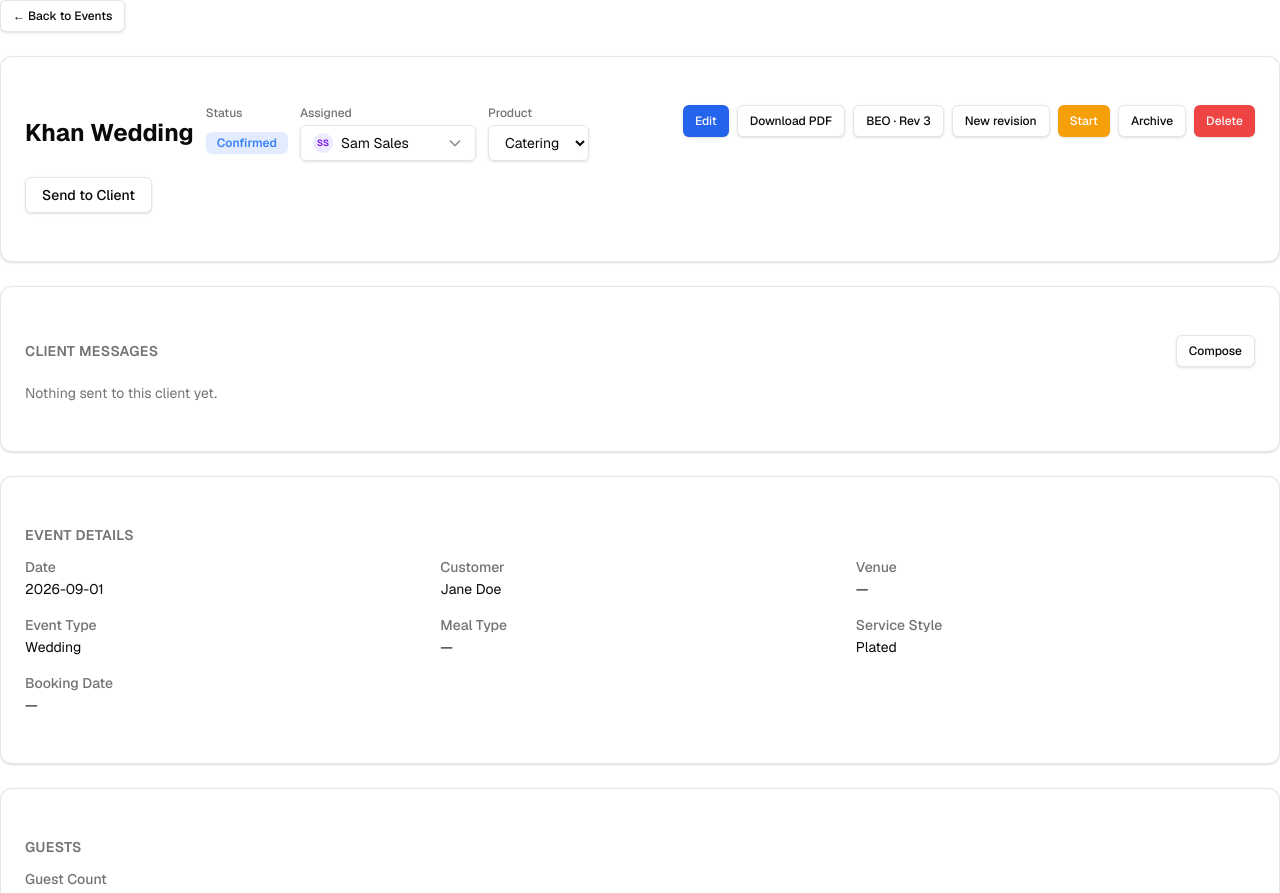
Event page — BEO download (REL-444 AC1) › surfaces a failed revision instead of failing silently
The image size is (1280, 893).
Click the button "New revision": (1001, 121) x1=952 y1=105 x2=1050 y2=137
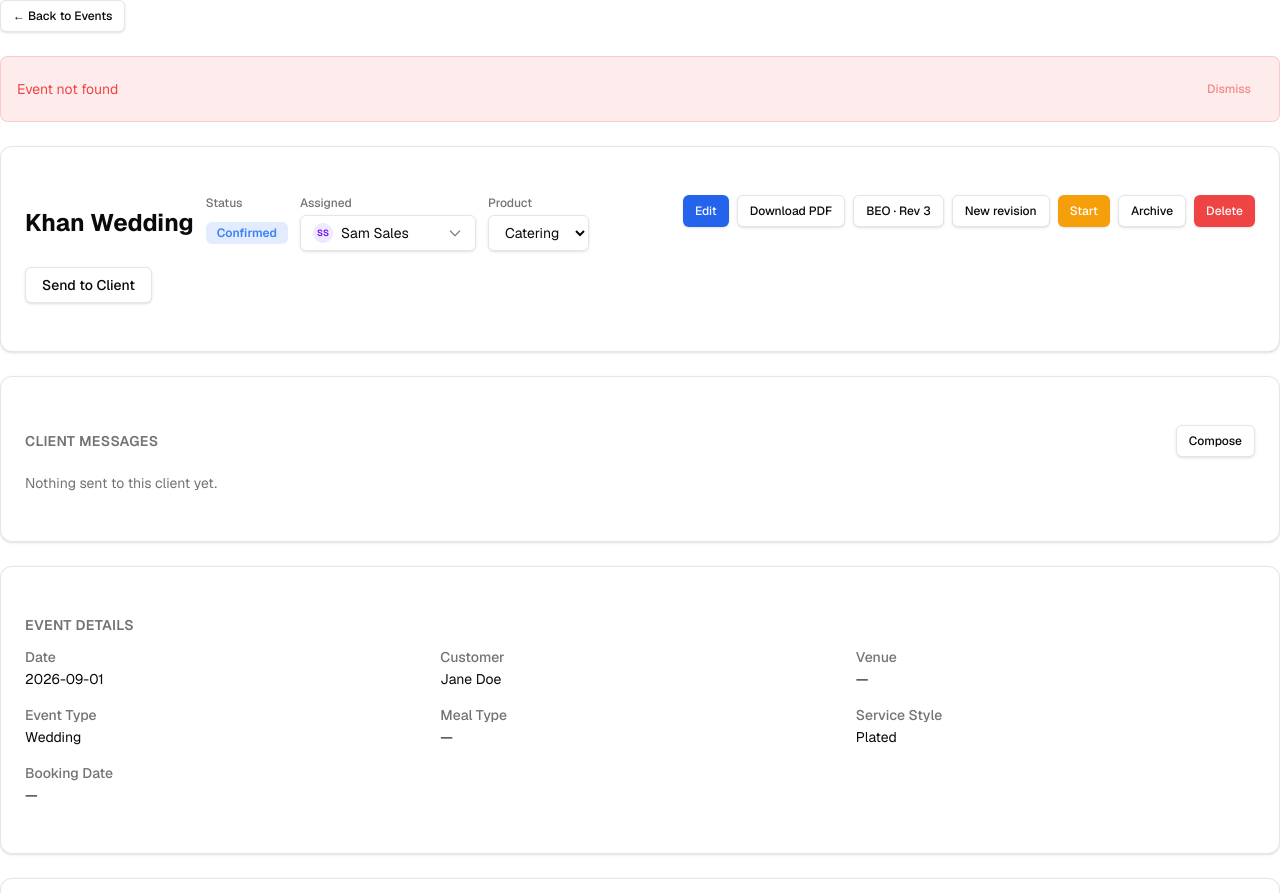
expect the text "Event not found" is shown: met, box x1=17 y1=79 x2=118 y2=99
